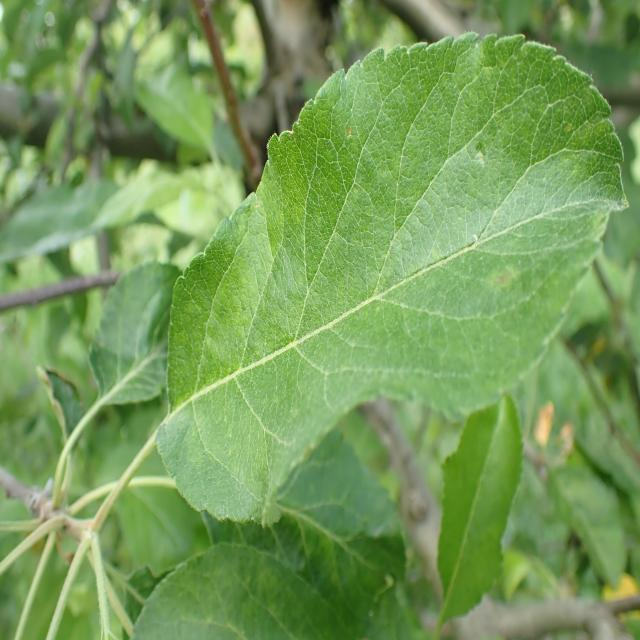scab: (190, 70, 560, 423)
